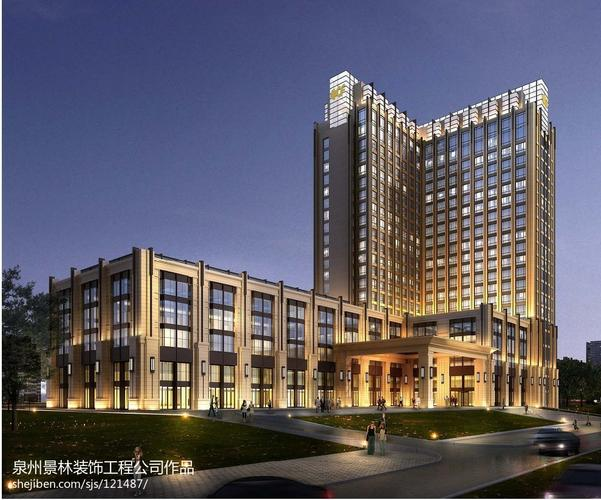buildings: (13, 189, 562, 428), (269, 78, 563, 387), (35, 256, 380, 422), (296, 75, 433, 346)
